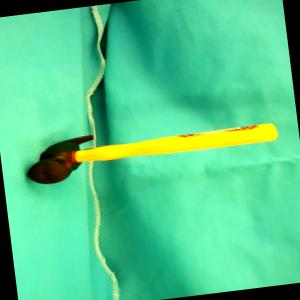martelo: (21, 112, 280, 188)
